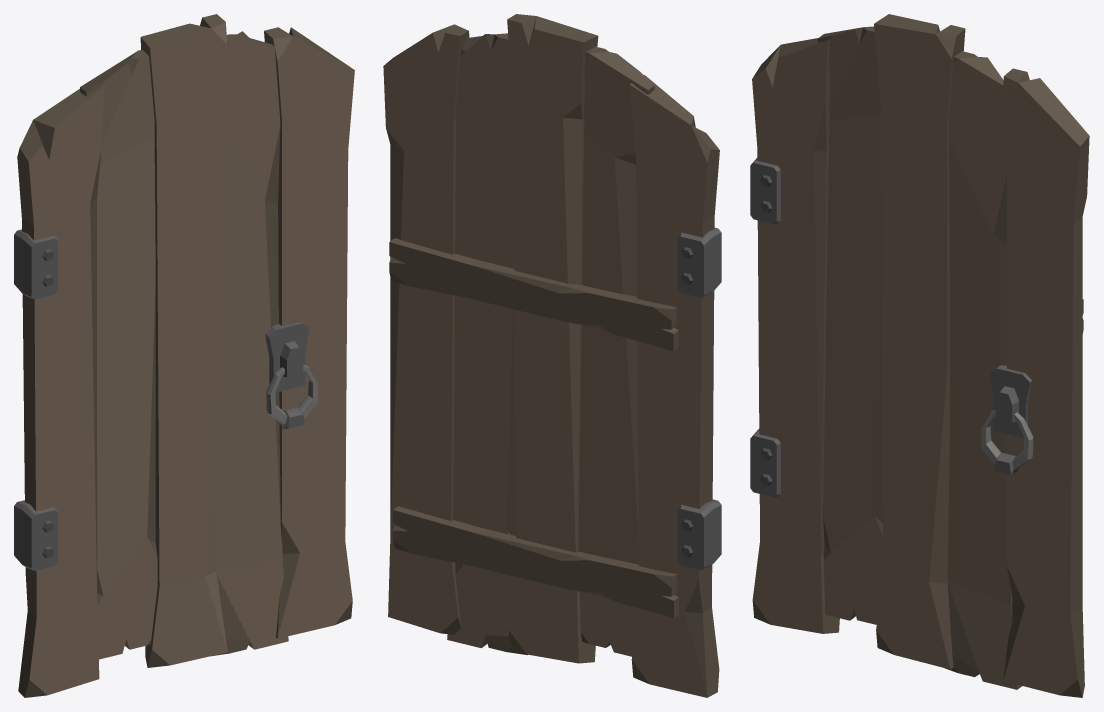
Rendered from SM_Env_Door_01.FBX.
The picture shows the model from 3 angles, left to right: view 1: azimuth 30°, elevation 25°; view 2: azimuth 150°, elevation 25°; view 3: azimuth 330°, elevation 25°; orthographic projection.
Parts seen in each view (by area): view 1: SM_Env_Door_01; view 2: SM_Env_Door_01; view 3: SM_Env_Door_01.
Part boxes in pixels (x1,y1,x2,y2): SM_Env_Door_01: (14,14,354,697); SM_Env_Door_01: (383,14,721,697); SM_Env_Door_01: (750,14,1089,697).
Size of what is drawn, in the model's own units: 132 by 18.49 by 246.
